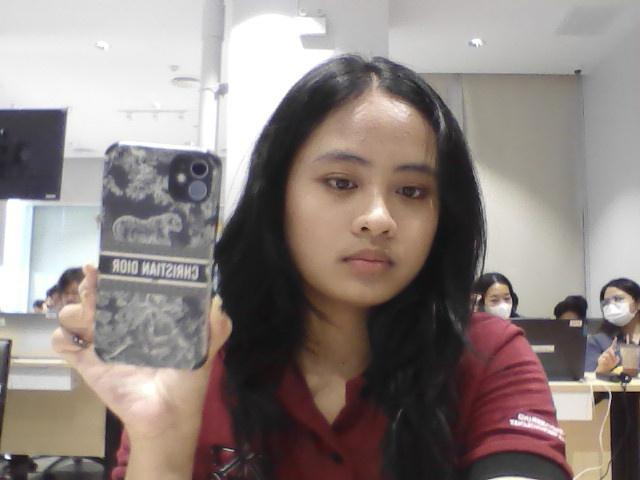iphone: (115, 137, 224, 368)
